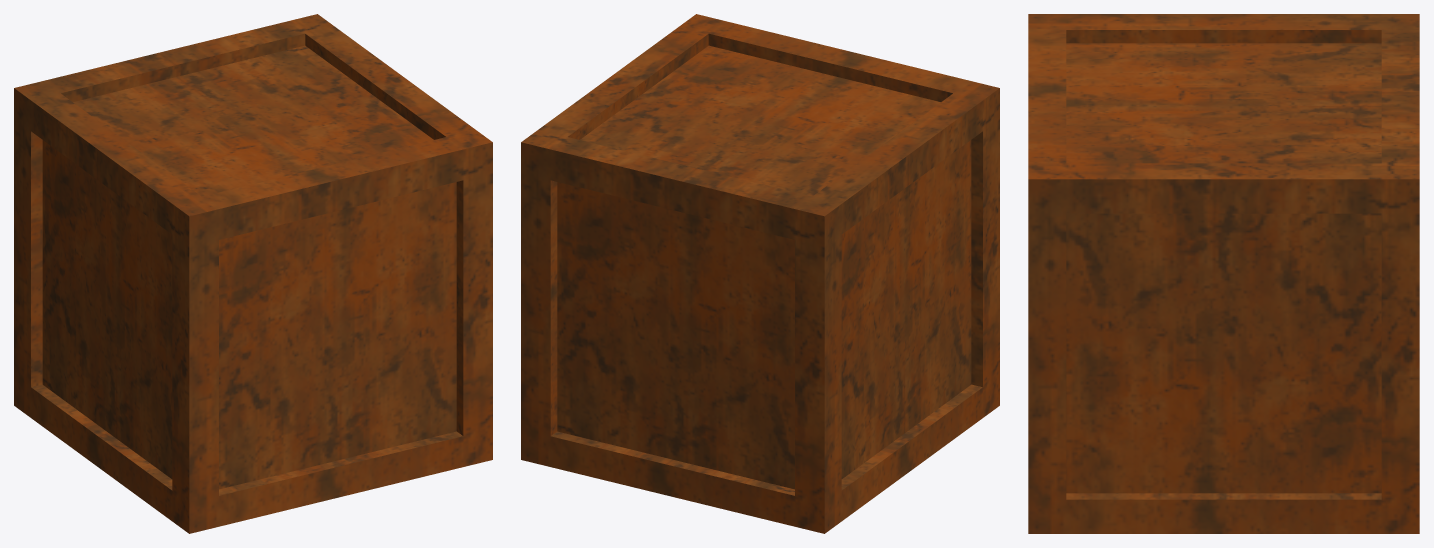
Rendered from Crate_SM.fbx.
3 views of the same model, side by side, from view 1: azimuth 30°, elevation 25°; view 2: azimuth 150°, elevation 25°; view 3: azimuth 270°, elevation 25° (orthographic). The views are drawn at different scales.
Parts seen in each view (by area): view 1: Box001; view 2: Box001; view 3: Box001.
Part boxes in pixels (left/top/right/bottom): Box001: left=14, top=14, right=492, bottom=533; Box001: left=521, top=14, right=999, bottom=533; Box001: left=1028, top=14, right=1419, bottom=533.
Size of the model in its own units: 80 by 80 by 80.
Materials: 1 (1 with a texture image).
